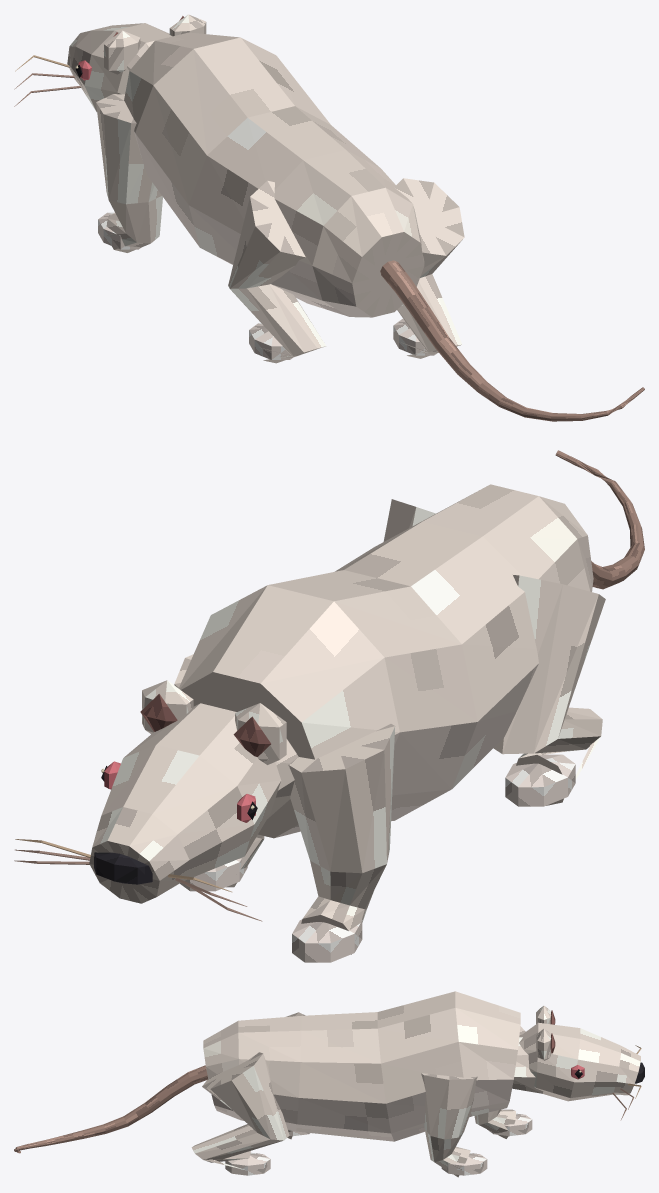
Rendered from mon_lab_rat.glb.
The picture shows the model from 3 angles, top to bottom: view 1: azimuth 30°, elevation 25°; view 2: azimuth 150°, elevation 25°; view 3: azimuth 270°, elevation 25°; orthographic projection. The views are drawn at different scales.
Parts seen in each view (by area): view 1: closed_body; view 2: closed_body; view 3: closed_body.
Boxes of the visible parts, x1,y1,x2,y2 form: closed_body: (14, 14, 644, 421); closed_body: (14, 450, 644, 962); closed_body: (14, 991, 644, 1177).
Size of the model in its own units: 0.1018 by 0.1022 by 0.3675.
Materials: 1 (1 with a texture image).
